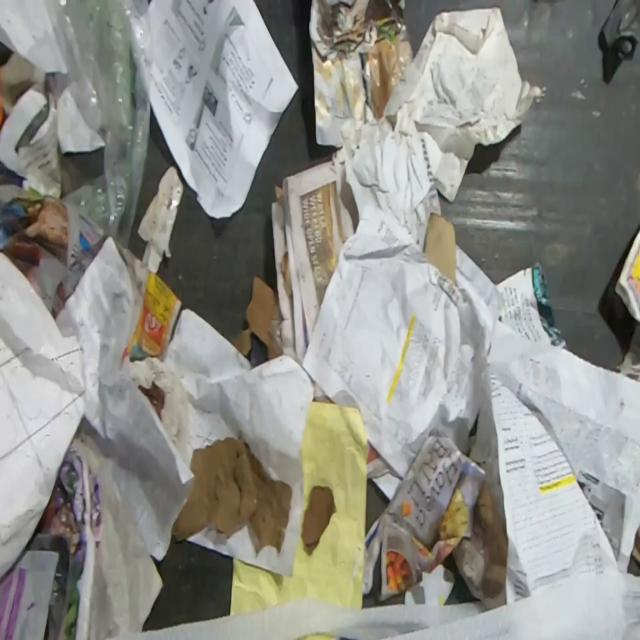cardboard: (422, 212, 456, 287)
rigid_plastic: (596, 0, 640, 61)
soft_plastic: (42, 0, 154, 249)
